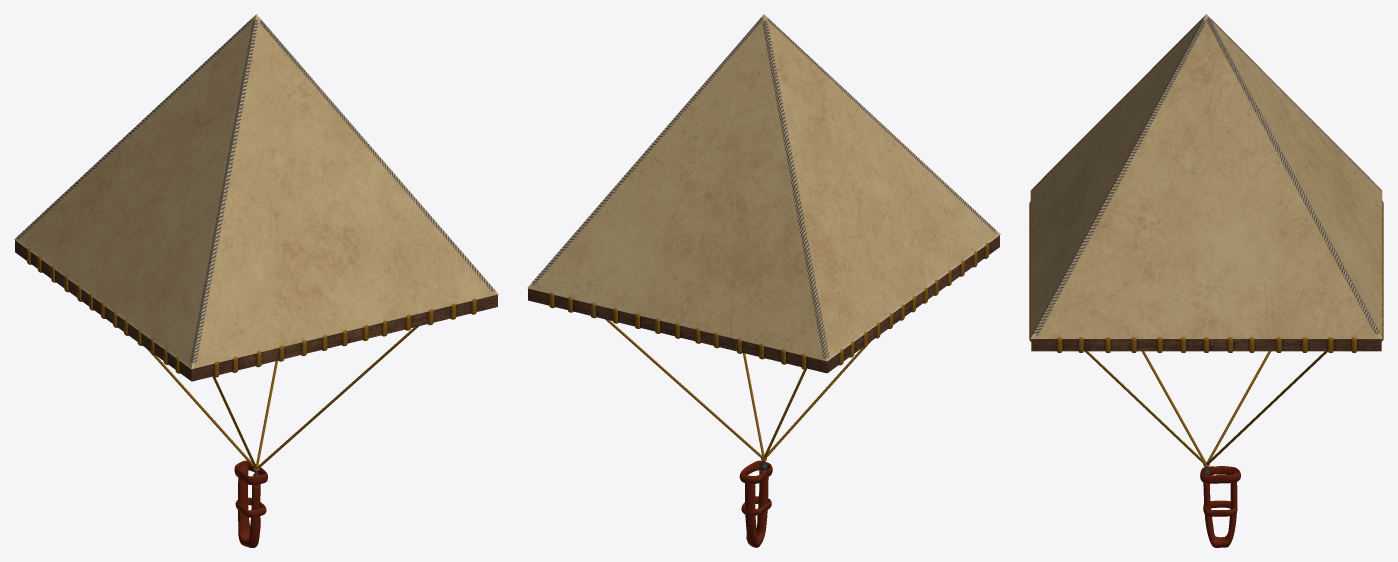
Rendered from DaV_parashute.obj.
The picture shows the model from 3 angles, left to right: view 1: azimuth 30°, elevation 25°; view 2: azimuth 150°, elevation 25°; view 3: azimuth 270°, elevation 25°; orthographic projection. The views are drawn at different scales.
Parts seen in each view (by area): view 1: Zont_main_Mesh.001, Wood_main_Mesh.003, Rope_main_Mesh, Leather_main_Mesh.002; view 2: Zont_main_Mesh.001, Wood_main_Mesh.003, Rope_main_Mesh, Leather_main_Mesh.002; view 3: Zont_main_Mesh.001, Wood_main_Mesh.003, Rope_main_Mesh, Leather_main_Mesh.002.
Part boxes in pixels (<box>): Zont_main_Mesh.001: <box>14,14,498,369</box>; Wood_main_Mesh.003: <box>15,240,497,381</box>; Rope_main_Mesh: <box>27,248,476,471</box>; Leather_main_Mesh.002: <box>234,460,267,547</box>; Zont_main_Mesh.001: <box>527,14,1000,361</box>; Wood_main_Mesh.003: <box>528,235,999,373</box>; Rope_main_Mesh: <box>549,243,988,460</box>; Leather_main_Mesh.002: <box>739,460,772,547</box>; Zont_main_Mesh.001: <box>1030,14,1382,339</box>; Wood_main_Mesh.003: <box>1031,339,1381,351</box>; Rope_main_Mesh: <box>1029,201,1383,466</box>; Leather_main_Mesh.002: <box>1200,466,1240,547</box>.
Bounding box in the file's own units: 1.88 × 3.12 × 1.88.
